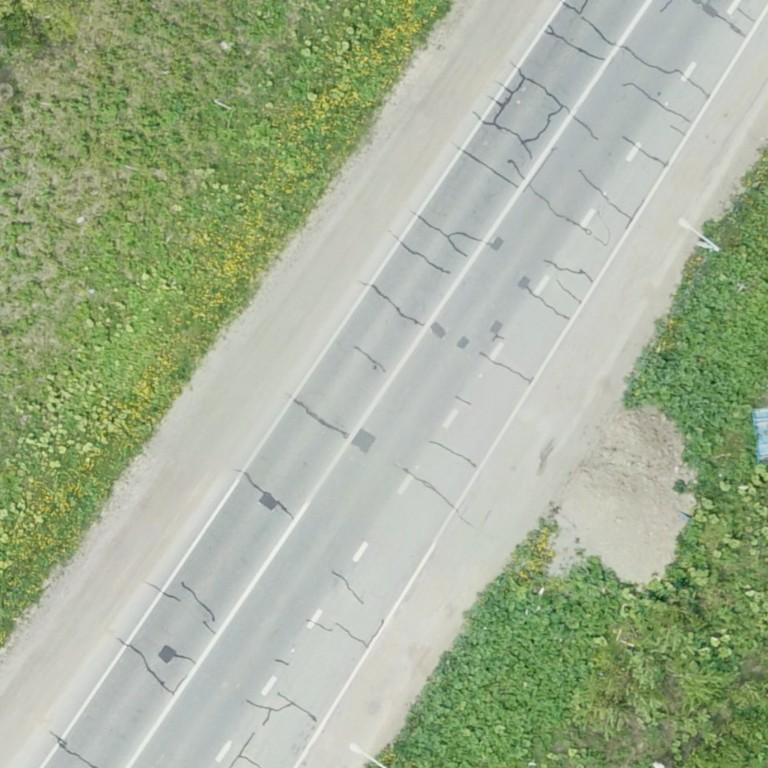hogweed: (382, 560, 620, 767), (627, 175, 767, 482)
